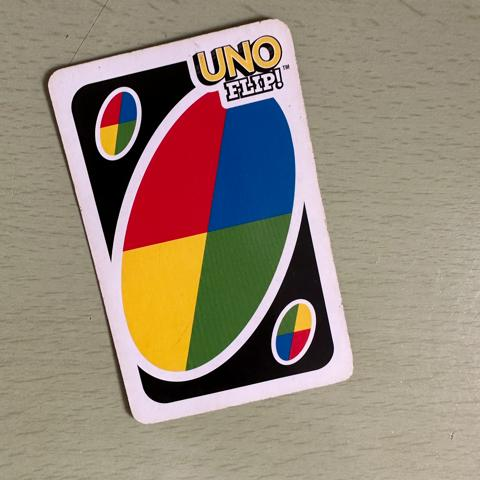draw2_red: (92, 86, 142, 160), (269, 300, 317, 368)
